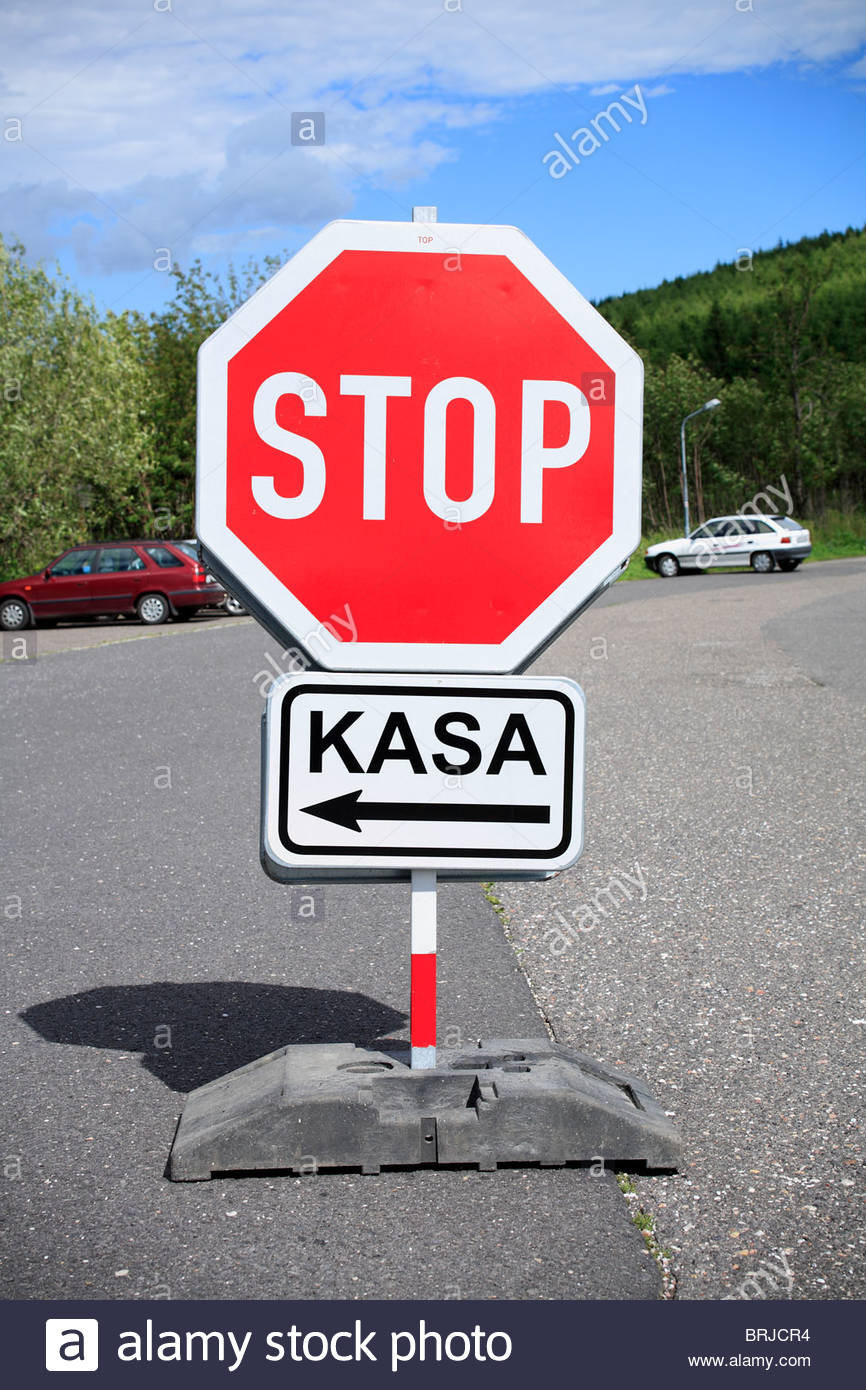stopsign: (193, 219, 648, 670)
